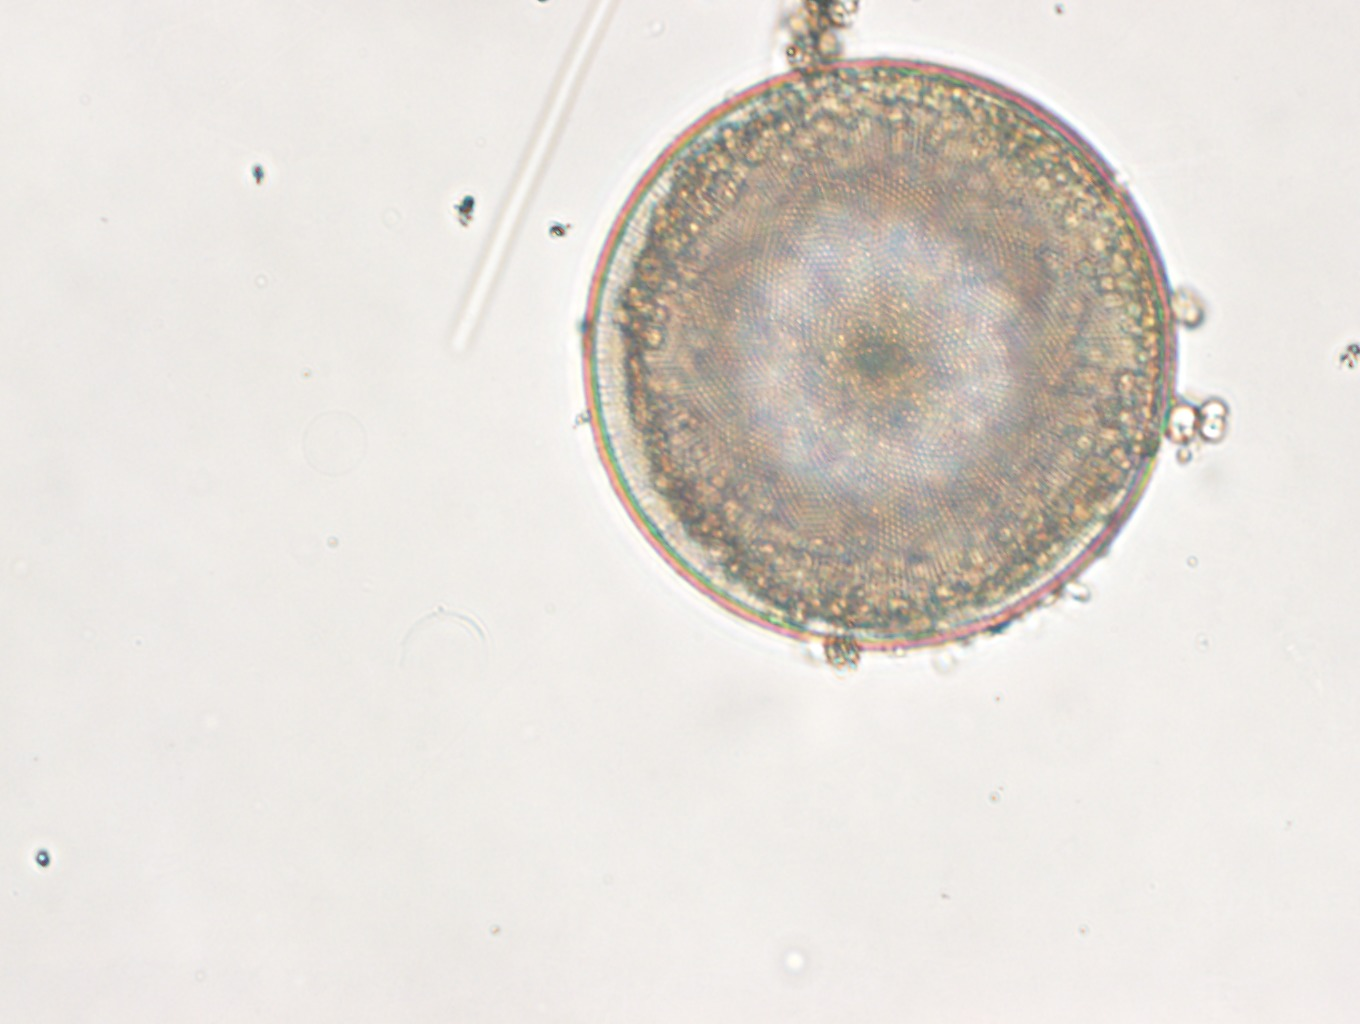coscinodiscus: (585, 53, 1179, 653)
